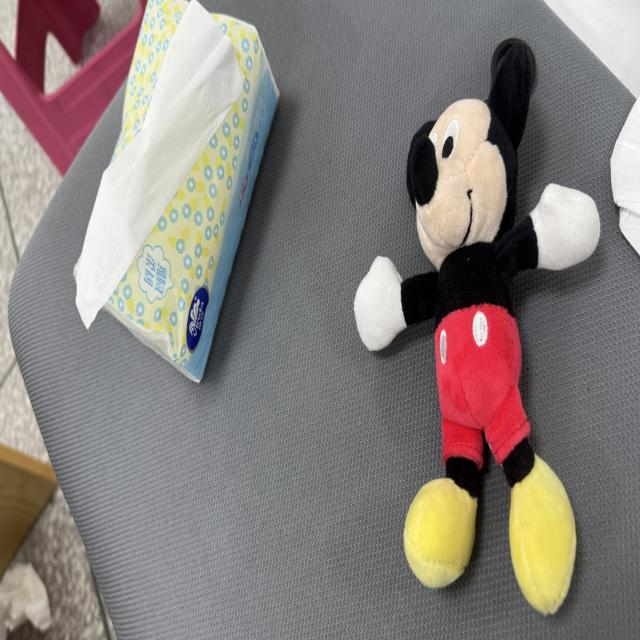mickey: (355, 40, 599, 613)
tissue: (76, 0, 278, 380), (77, 0, 244, 328), (611, 101, 639, 253), (0, 564, 51, 639)
